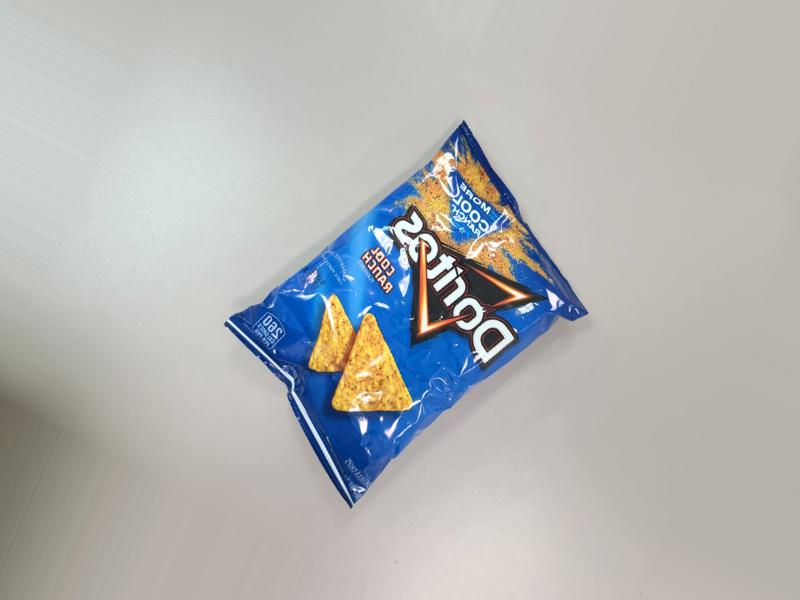doritos: (247, 103, 587, 513)
